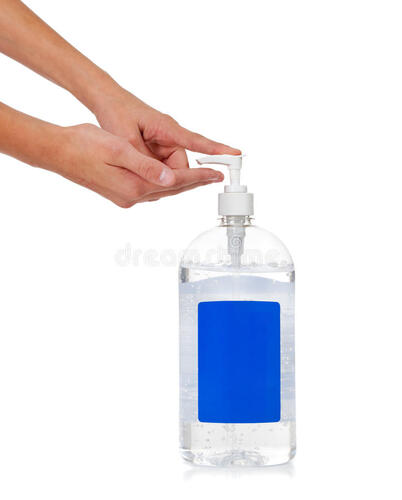sanitizer: (177, 145, 308, 470)
